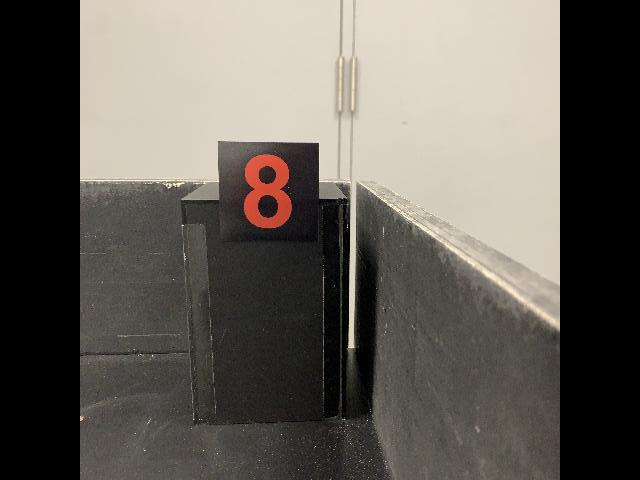eight: (217, 139, 321, 243)
